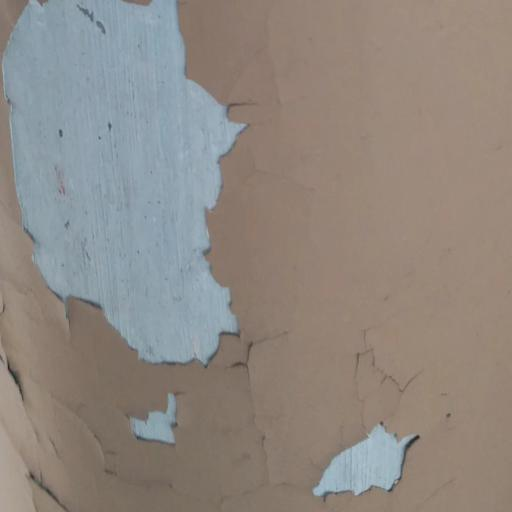peeling: (0, 0, 314, 398), (303, 413, 446, 512), (106, 370, 202, 455)
